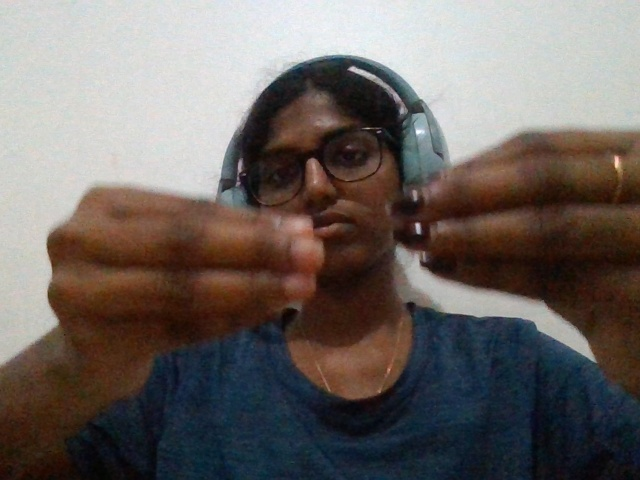More: (23, 105, 640, 433)
